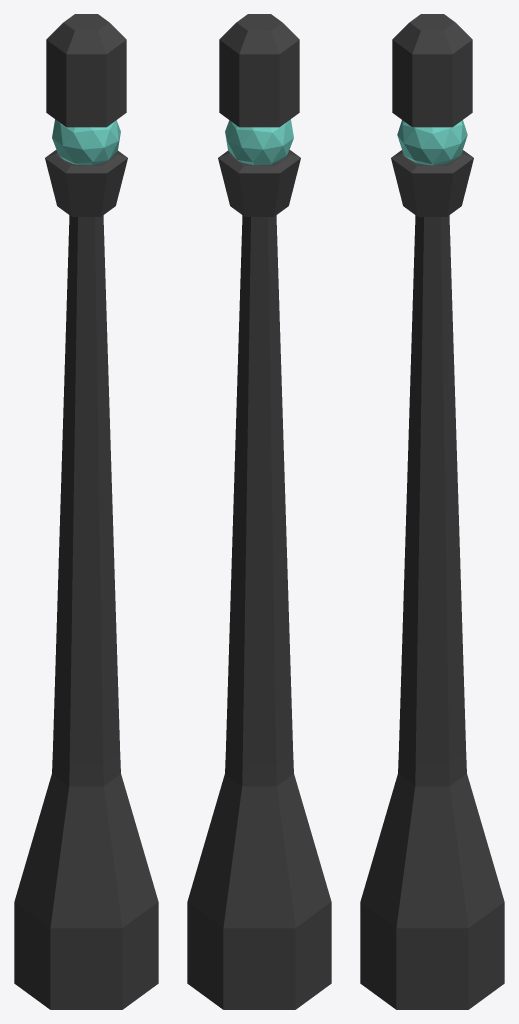
File: lampadaire_01.fbx
3 renders of one model, left to right at view 1: azimuth 30°, elevation 25°; view 2: azimuth 150°, elevation 25°; view 3: azimuth 270°, elevation 25°, orthographic.
Visible parts, largest first — view 1: Cylinder, Cylinder.001, Icosphere; view 2: Cylinder, Cylinder.001, Icosphere; view 3: Cylinder, Cylinder.001, Icosphere.
Part boxes in pixels (<box>): Cylinder: <box>14,150,158,1009</box>; Cylinder.001: <box>46,14,126,127</box>; Icosphere: <box>52,119,120,165</box>; Cylinder: <box>187,150,331,1009</box>; Cylinder.001: <box>219,14,299,127</box>; Icosphere: <box>225,119,293,165</box>; Cylinder: <box>360,150,504,1009</box>; Cylinder.001: <box>392,14,472,127</box>; Icosphere: <box>397,120,467,165</box>.
Bounding box in the file's own units: 173 × 1471 × 200.
